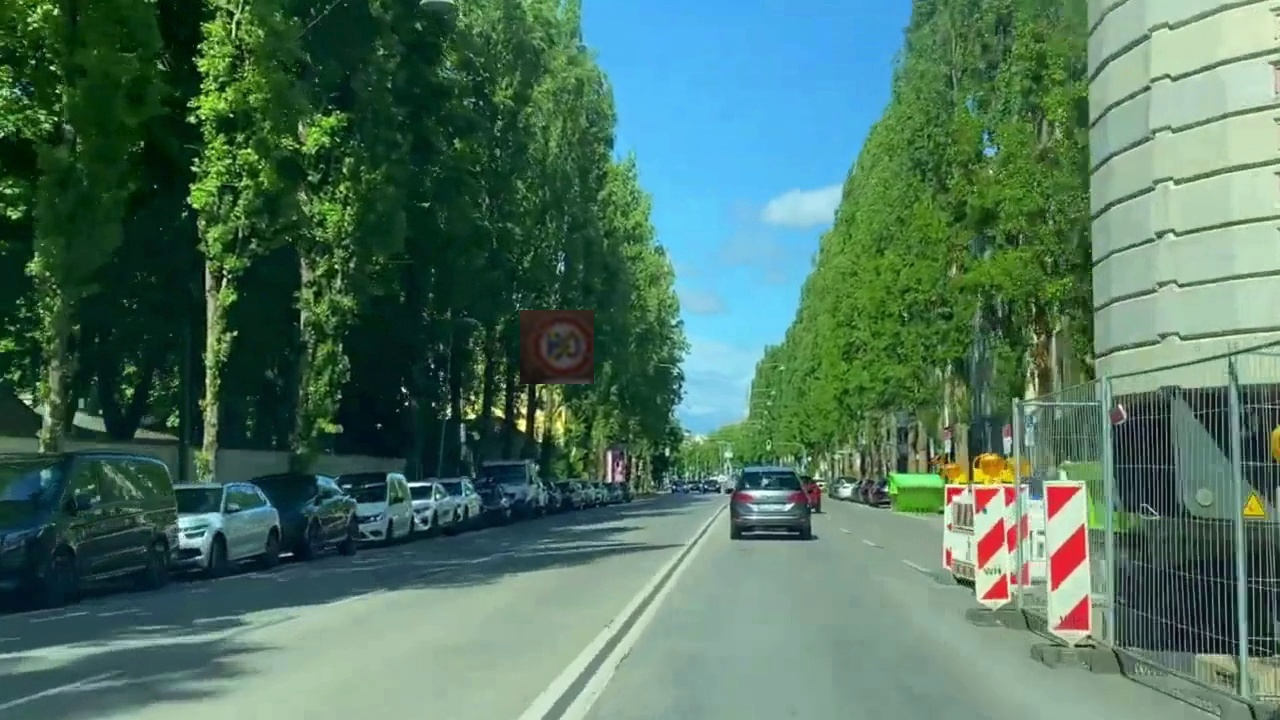Speed 80: (520, 310, 594, 384)
